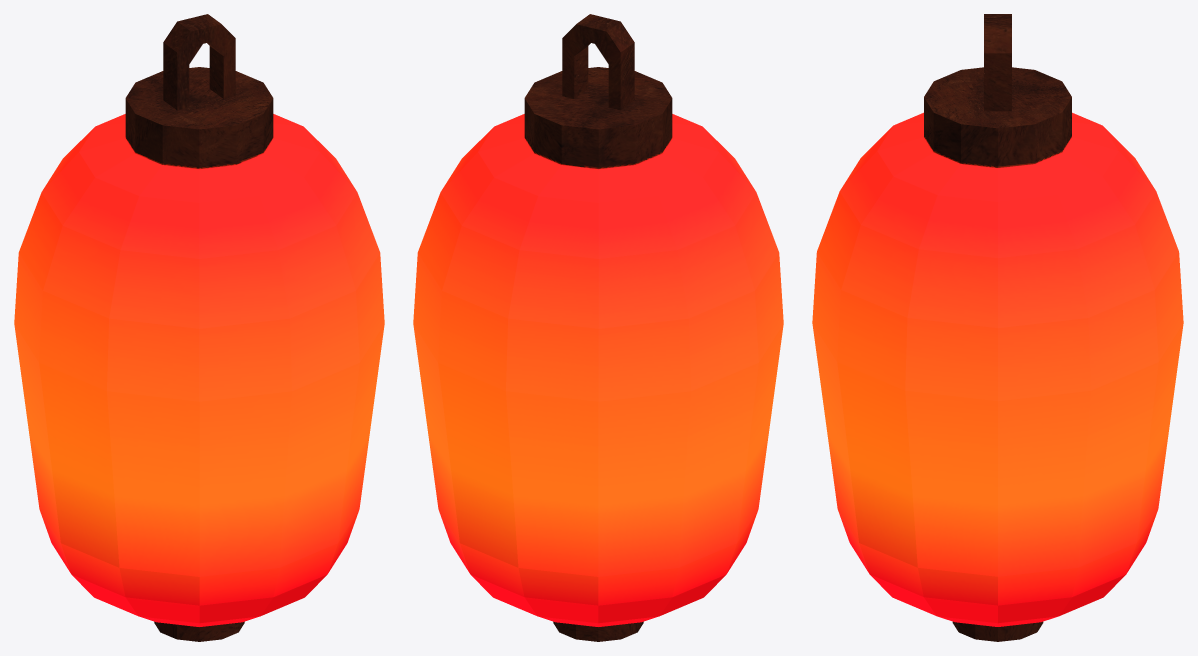
File: LanternaJcilindrica.fbx
3 renders of one model, left to right at view 1: azimuth 30°, elevation 25°; view 2: azimuth 150°, elevation 25°; view 3: azimuth 270°, elevation 25°, orthographic.
Visible parts, largest first — view 1: LanternaPapeljaponesaCilindrica; view 2: LanternaPapeljaponesaCilindrica; view 3: LanternaPapeljaponesaCilindrica.
Part boxes in pixels (x1=…): LanternaPapeljaponesaCilindrica: x1=14, y1=14, x2=384, y2=641; LanternaPapeljaponesaCilindrica: x1=413, y1=14, x2=783, y2=641; LanternaPapeljaponesaCilindrica: x1=812, y1=14, x2=1183, y2=641.
Bounding box in the file's own units: 49.67 × 88.75 × 49.67.
